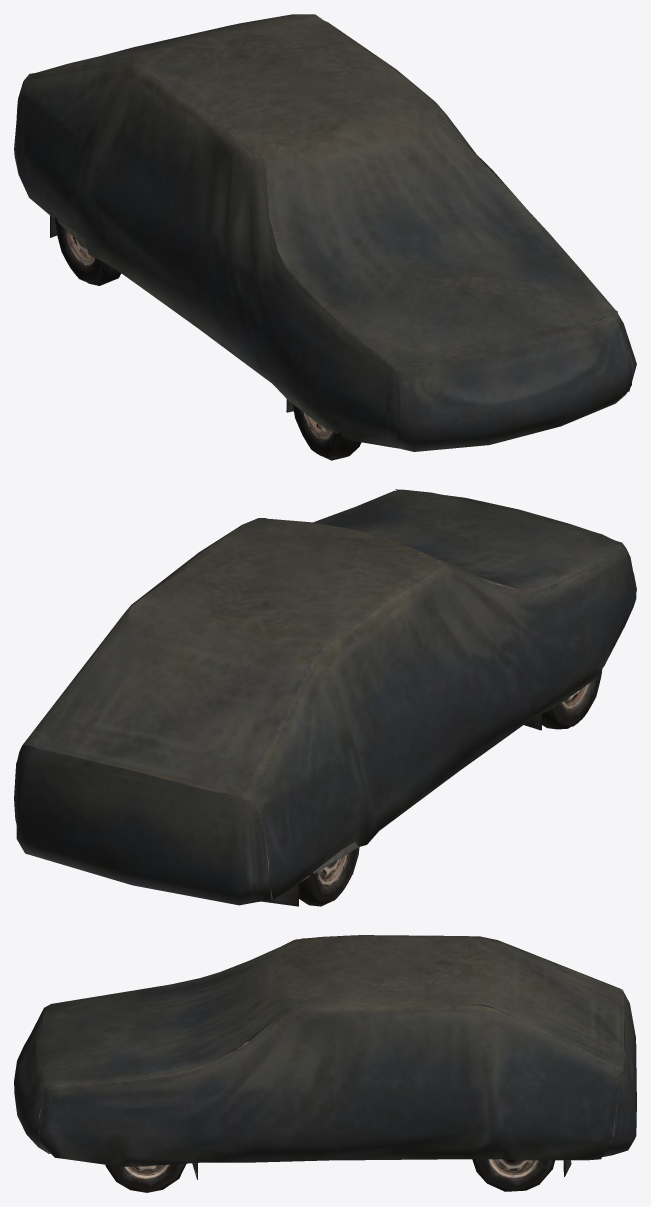
The model's file is covered_car.glb.
3 renders of one model, top to bottom at view 1: azimuth 30°, elevation 25°; view 2: azimuth 150°, elevation 25°; view 3: azimuth 270°, elevation 25°, orthographic. The views are drawn at different scales.
Parts seen in each view (by area): view 1: covered_car_wheel_01; view 2: covered_car_wheel_01; view 3: covered_car_wheel_01.
Boxes of the visible parts, left/top/right/bottom form: covered_car_wheel_01: left=14, top=14, right=636, bottom=460; covered_car_wheel_01: left=14, top=489, right=636, bottom=906; covered_car_wheel_01: left=14, top=935, right=636, bottom=1192.
Size of the model in its own units: 1.8 by 1.41 by 4.37.
2 materials, 2 textured.
